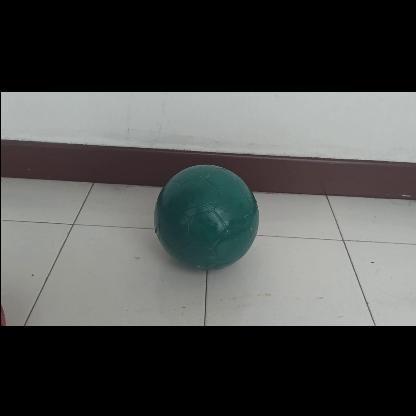green_ball: (153, 163, 259, 269)
